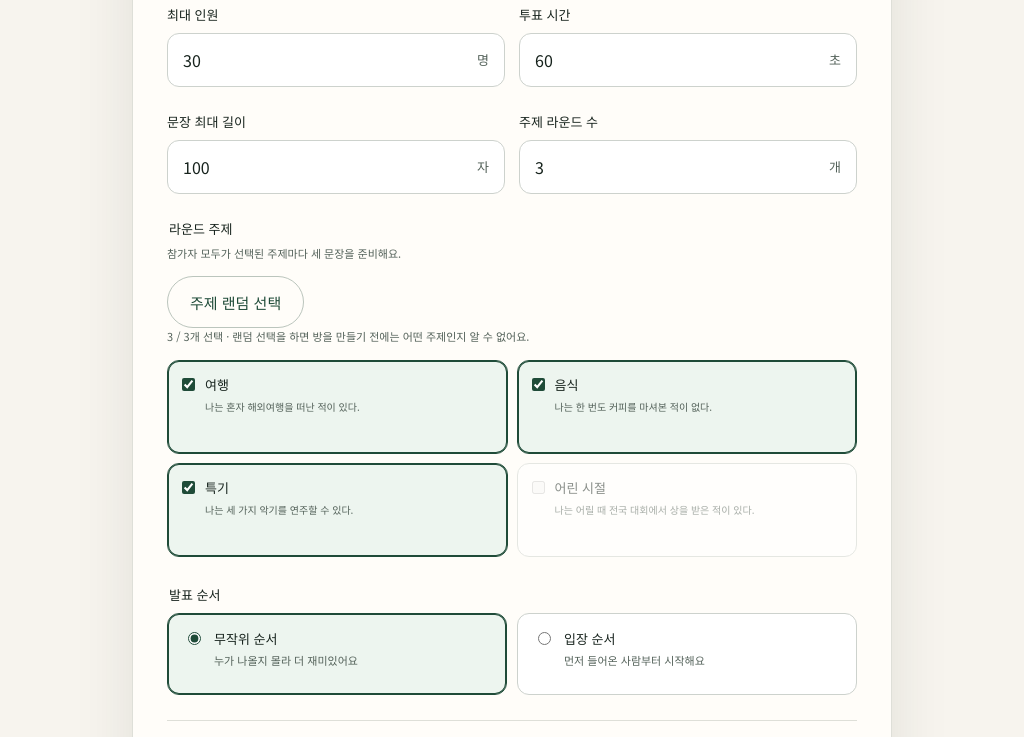
Test: CreateRoomPage › 직접 선택으로 돌아가면 이전 수동 선택을 복원한다
This screenshot has width=1024, height=737.
(page scrolled)
What coordinates should you click on to do the following:
click the checkbox labelled "여행 나는 혼자 해외여행을 떠난 적이 있다."
I would click on:
 (188, 384)
Its box is [182,378,195,391].
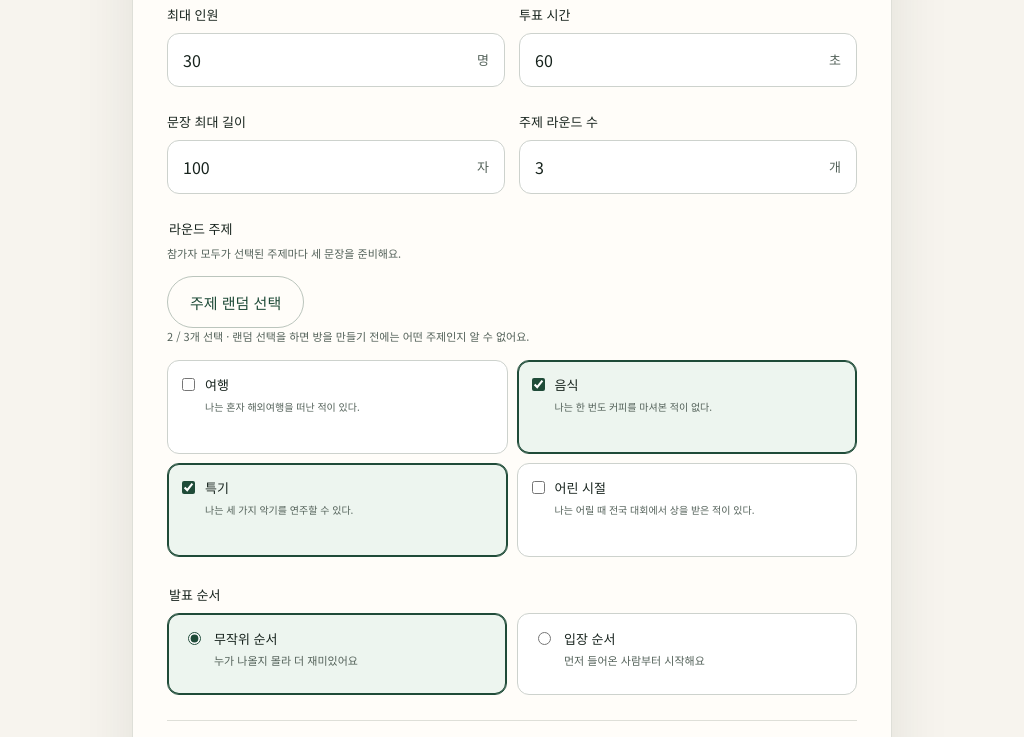
What coordinates should you click on to do the following:
click the checkbox labelled "어린 시절 나는 어릴 때 전국 대회에서 상을 받은 적이 있다."
I would click on:
 (538, 488)
Its box is [532,481,544,494].
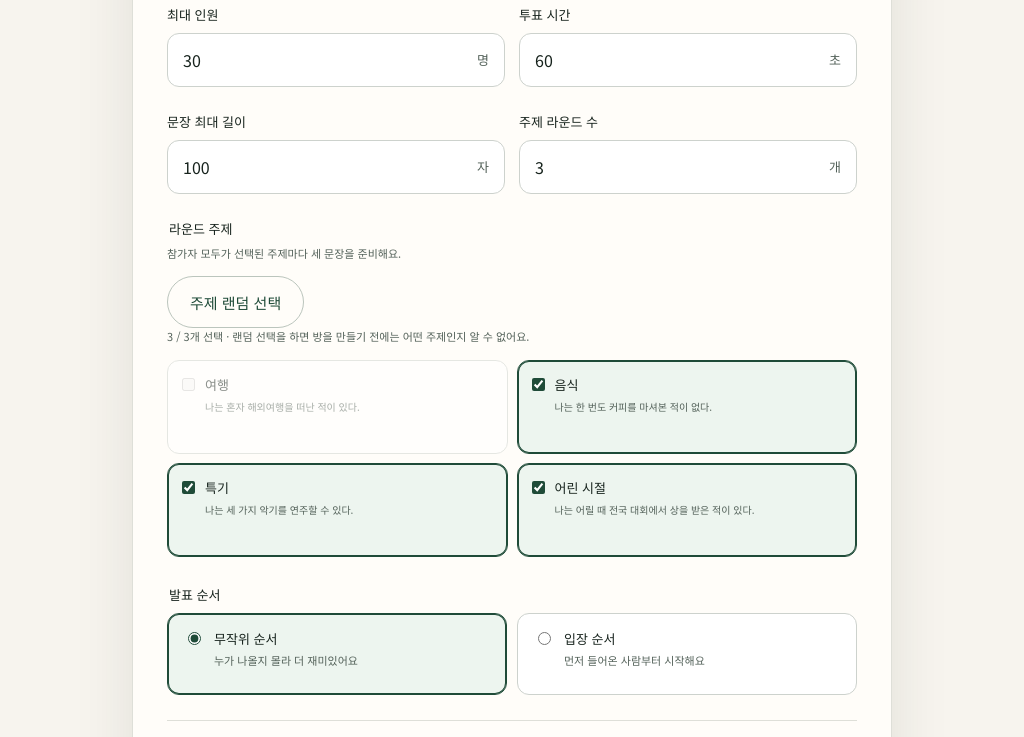
What coordinates should you click on to do the following:
click the button "주제 랜덤 선택"
I would click on:
 (236, 302)
Its box is [167,276,304,328].
(page scrolled)
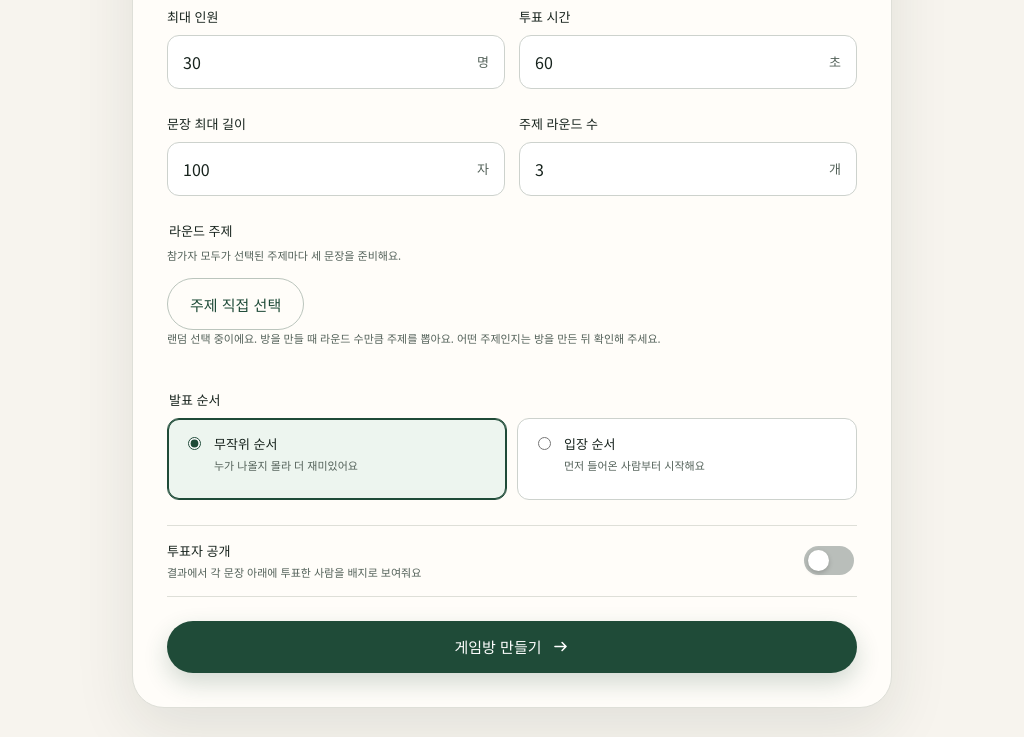
What coordinates should you click on to do the following:
click the button "주제 직접 선택"
I would click on:
 (236, 304)
Its box is [167,278,304,330].
(page scrolled)
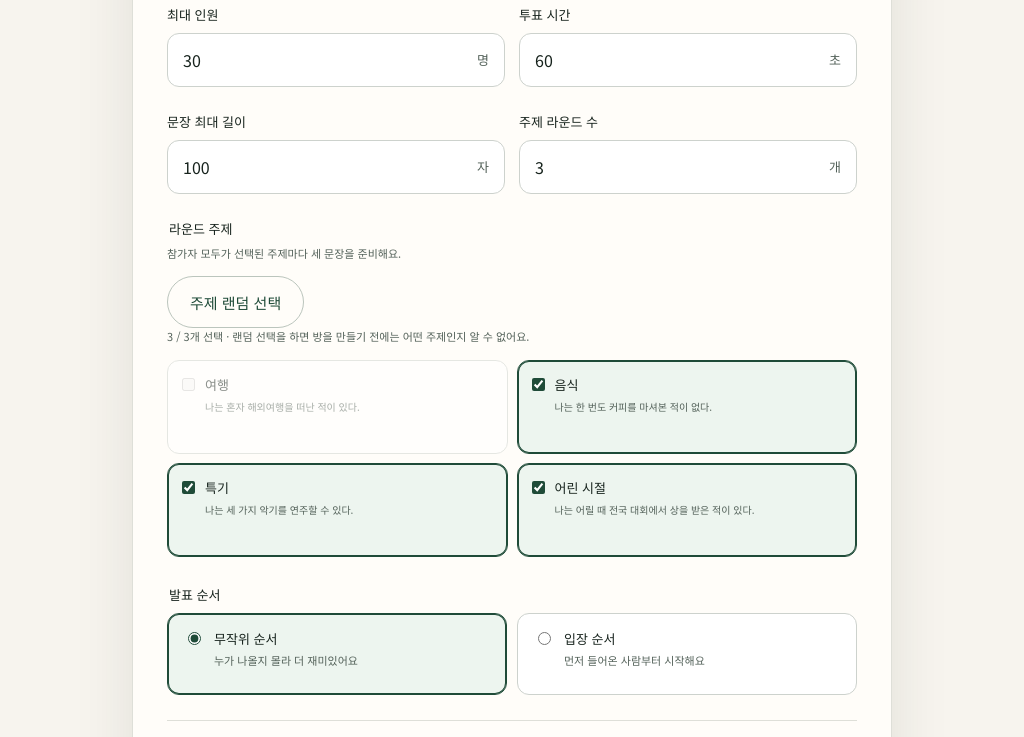
Check: the checkbox labelled "음식 나는 한 번도 커피를 마셔본 적이 없다." is checked, box [532,378,544,391]
Check: the checkbox labelled "특기 나는 세 가지 악기를 연주할 수 있다." is checked, box [182,481,195,494]
Check: the checkbox labelled "어린 시절 나는 어릴 때 전국 대회에서 상을 받은 적이 있다." is checked, box [532,481,544,494]
